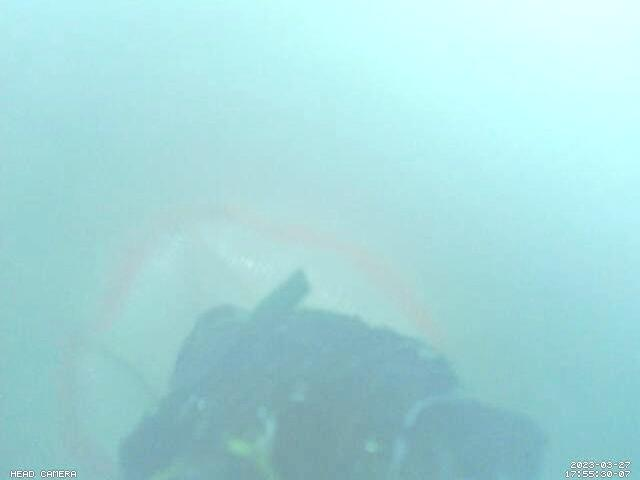head: (56, 201, 444, 480)
